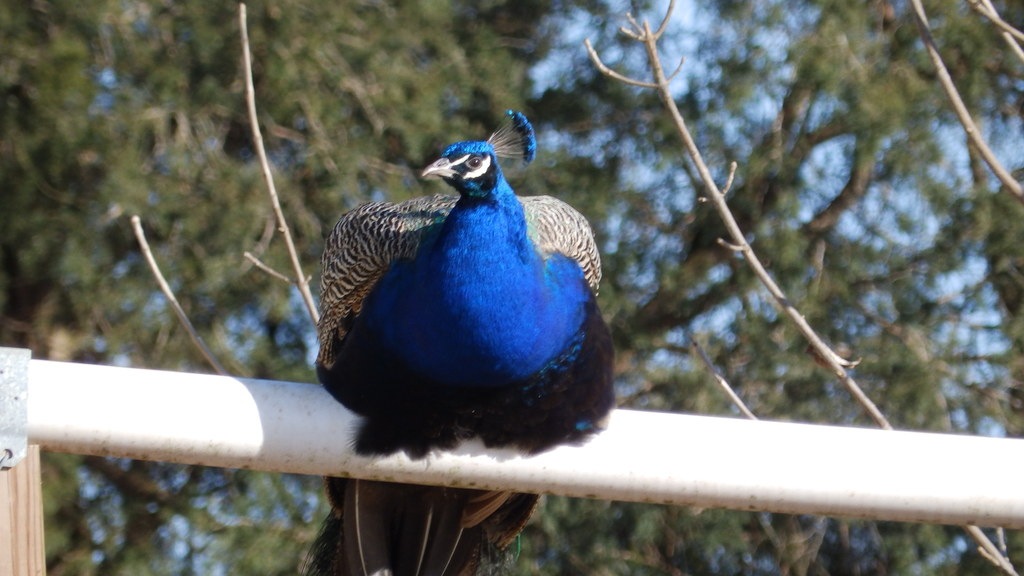Animal: (266, 105, 620, 574)
